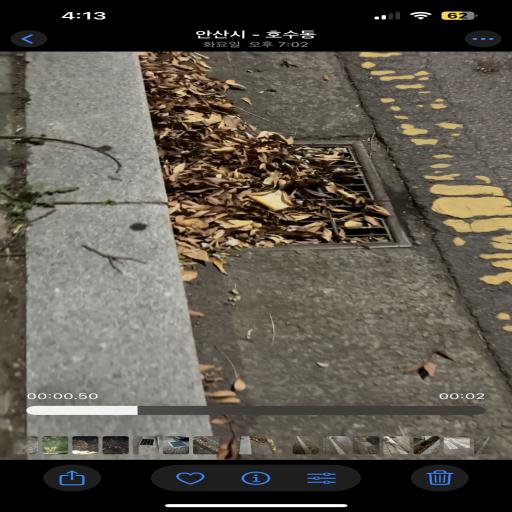debris: (176, 193, 272, 247), (205, 170, 310, 219), (173, 157, 254, 188), (269, 220, 331, 244), (323, 177, 365, 203), (282, 147, 314, 181), (300, 144, 346, 161), (255, 142, 280, 168), (201, 141, 241, 156), (341, 213, 362, 228), (317, 210, 336, 225), (365, 201, 386, 214), (239, 145, 249, 167), (356, 150, 367, 167), (364, 215, 379, 227), (307, 201, 325, 209), (336, 226, 347, 239), (172, 149, 185, 156), (328, 205, 343, 211), (189, 174, 198, 184), (283, 162, 294, 168), (231, 208, 242, 213), (304, 240, 319, 243), (348, 145, 356, 150), (352, 237, 361, 241), (335, 168, 345, 171), (377, 237, 384, 241), (224, 154, 229, 159)
drain: (171, 140, 397, 248)
